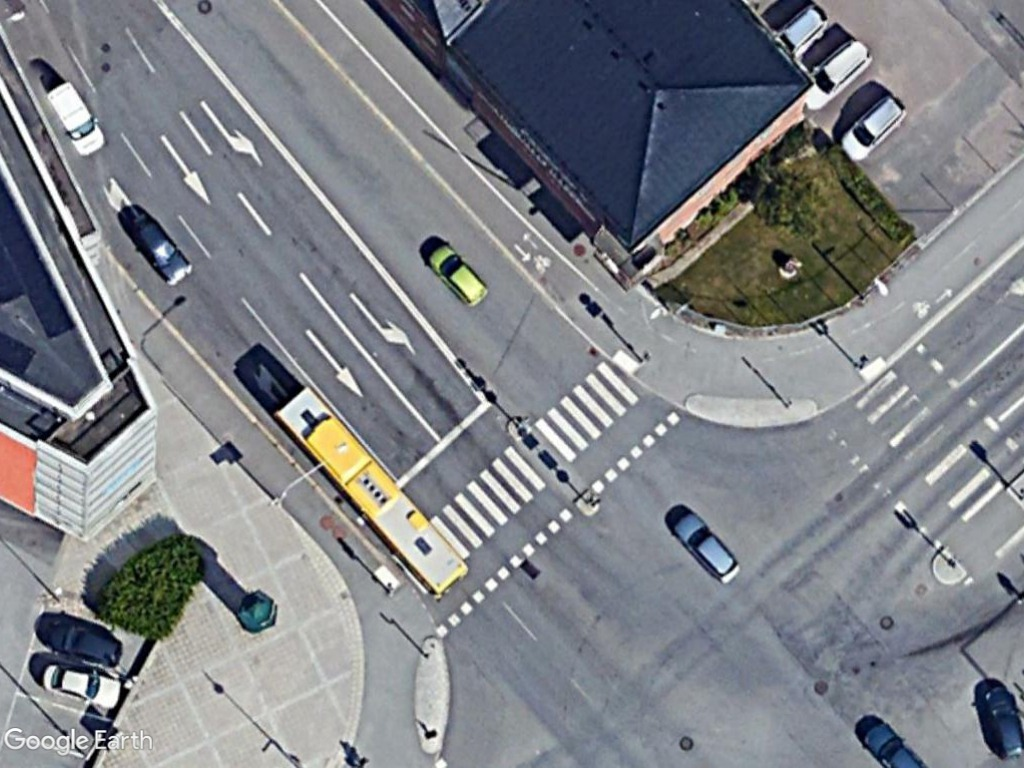bus: (270, 382, 473, 602)
car: (794, 36, 876, 114), (671, 509, 745, 588), (836, 93, 909, 163), (424, 238, 491, 309), (131, 216, 196, 289), (38, 661, 127, 714), (47, 620, 127, 673), (981, 684, 1024, 764)
van: (41, 78, 109, 161)
